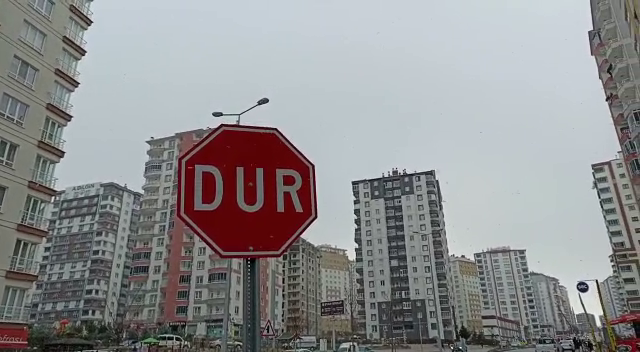stop: (174, 121, 321, 261)
